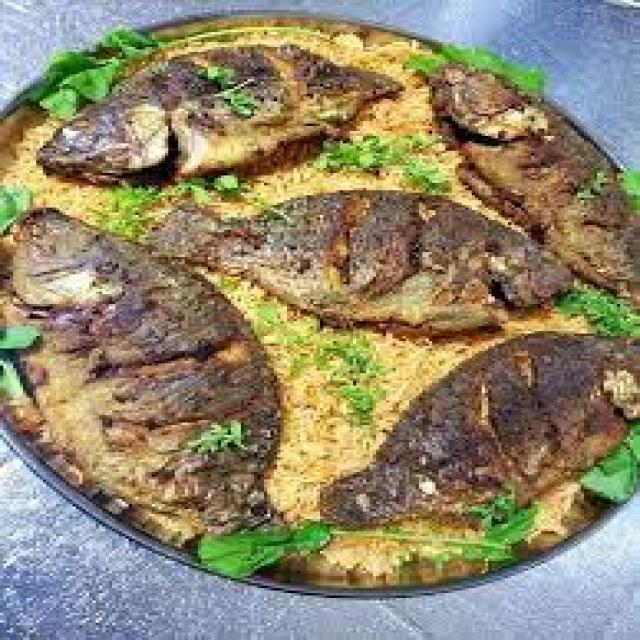Peixe: (0, 17, 637, 588), (0, 202, 284, 548), (139, 185, 574, 334), (313, 328, 637, 528), (33, 39, 402, 183)
